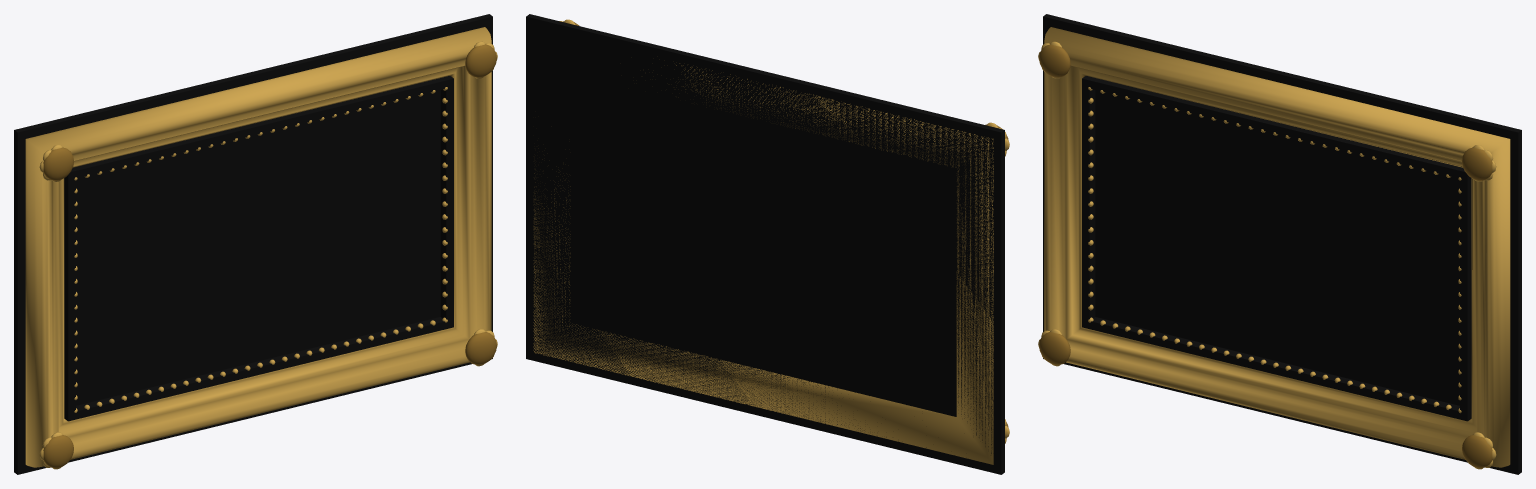
Rendered from ordinalframe.glb.
The picture shows the model from 3 angles, left to right: view 1: azimuth 30°, elevation 25°; view 2: azimuth 150°, elevation 25°; view 3: azimuth 330°, elevation 25°; orthographic projection.
Visible parts, largest first — view 1: Cube.004, frame, Cube.001, Cube, Cube.002, Cube.003, Sphere.018, Sphere.012, Sphere.006, Sphere; view 2: Cube.004, frame; view 3: Cube.004, frame, Cube.001, Cube, Cube.003, Cube.002, Sphere.006, Sphere, Sphere.018, Sphere.012.
Part boxes in pixels (<box>): Cube.004: <box>14,14,492,474</box>; frame: <box>25,27,491,467</box>; Cube.001: <box>64,317,453,421</box>; Cube: <box>65,76,453,180</box>; Cube.002: <box>440,86,453,320</box>; Cube.003: <box>64,178,75,413</box>; Sphere.018: <box>465,44,496,77</box>; Sphere.012: <box>465,332,496,365</box>; Sphere.006: <box>43,147,73,180</box>; Sphere: <box>43,435,73,468</box>; Cube.004: <box>526,14,1004,474</box>; frame: <box>533,63,993,464</box>; Cube.004: <box>1043,14,1521,474</box>; frame: <box>1044,27,1510,467</box>; Cube.001: <box>1082,317,1471,421</box>; Cube: <box>1082,76,1470,180</box>; Cube.003: <box>1082,86,1095,320</box>; Cube.002: <box>1460,178,1471,413</box>; Sphere.006: <box>1039,44,1070,77</box>; Sphere: <box>1039,332,1070,365</box>; Sphere.018: <box>1462,147,1492,180</box>; Sphere.012: <box>1462,435,1492,468</box>.
Bounding box in the file's own units: 1.54 × 1.06 × 0.1225.
